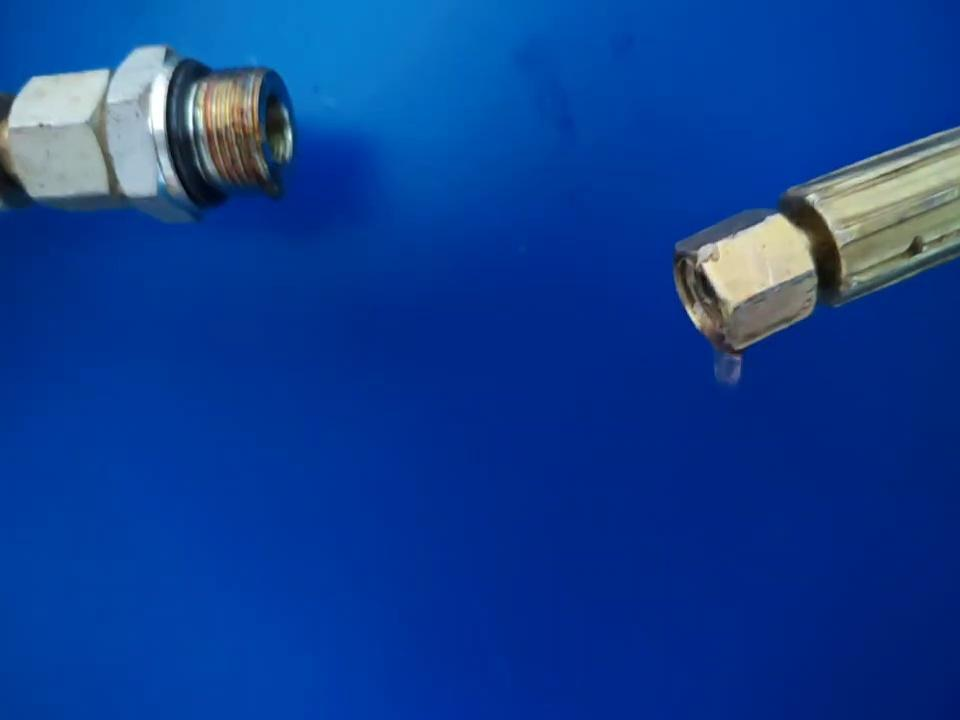water drop: (714, 346, 742, 386), (261, 170, 283, 201)
